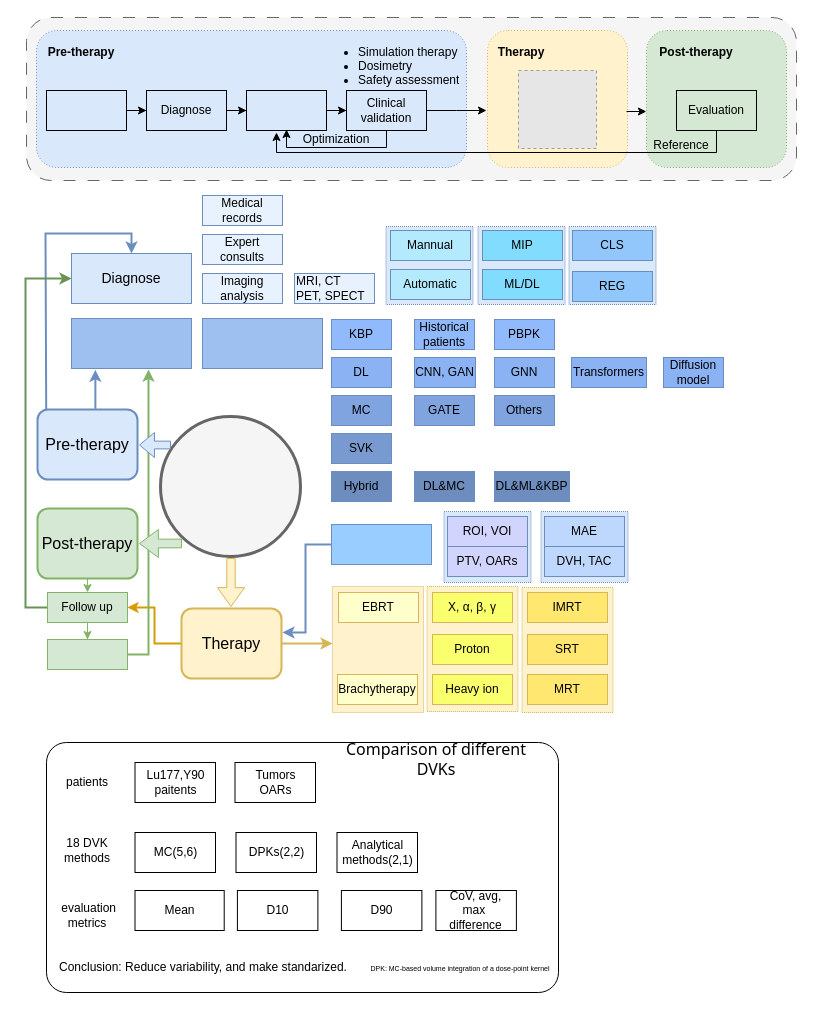
The diagram is 814 pixels wide and 1010 high, and some of its shapes have lost their labels. Grey dashed boxes stand in for pictures. Each missing label, with the box of its shape:
Adapt plan: (46, 638, 128, 670)
Dosimetry: (202, 318, 322, 368)
Imaging data: (46, 90, 126, 130)
Radiation Therapy: (158, 414, 302, 558)
Therapy plan: (246, 90, 326, 130)
Treatment plan: (70, 318, 192, 368)
Validation: (330, 524, 432, 564)
